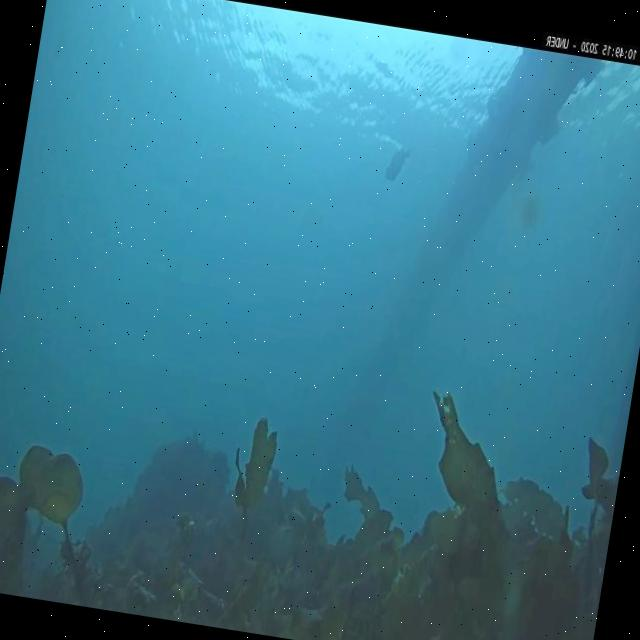fish: (382, 137, 415, 188)
